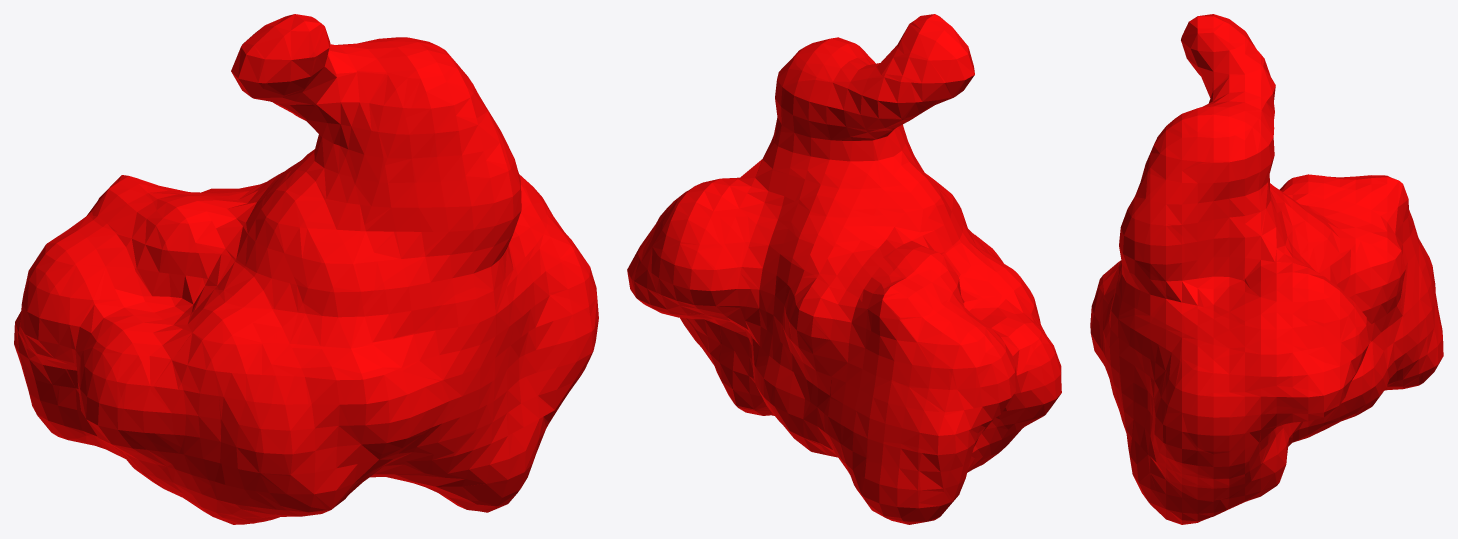
The model's file is yqgE_coarse.dae.
3 renders of one model, left to right at view 1: azimuth 30°, elevation 25°; view 2: azimuth 150°, elevation 25°; view 3: azimuth 270°, elevation 25°, orthographic. The views are drawn at different scales.
Parts seen in each view (by area): view 1: yqgE; view 2: yqgE; view 3: yqgE.
Part boxes in pixels (box(x1,y1,x2,y2)): yqgE: box(14, 14, 598, 524); yqgE: box(627, 14, 1061, 524); yqgE: box(1090, 14, 1443, 524).
Size of the model in its own units: 53.84 by 55.99 by 41.22.
